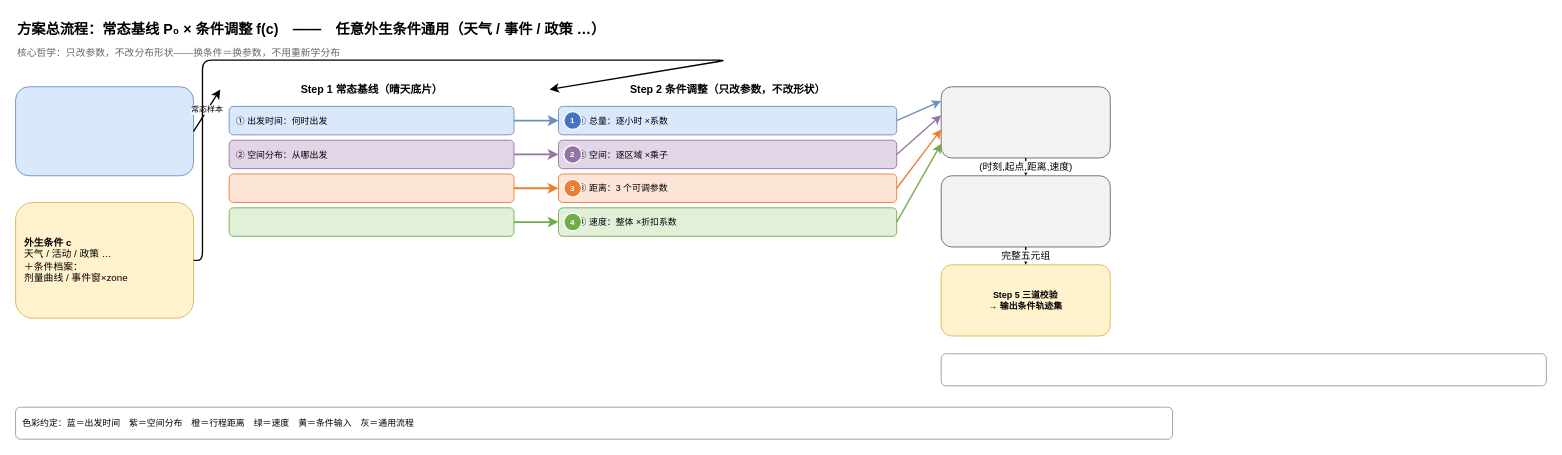
Image size: 1562x455. Some labels were removed from this diagram. The shapes that lost their labels are listed below. From the top down, each one's centre as x and y in pixels, then its label:
At point (104, 131): "常态行程大数据 时刻/起终点/里程/时长 （例：纽约 TLC 2.61 亿行）".
At point (1025, 122): "Step 3 采样 (时刻, 起点, 距离, 速度) 时长 = 距离 ÷ 速度".
At point (371, 187): "③ 行程距离：走多远".
At point (371, 221): "④ 速度：多快".
At point (1025, 211): "Step 4 终点配对 按起点＋距离 在地图上选终点".
At point (1243, 369): "校验不通过 → 回 Step 2 修正；用可观测的真实雨天做盲测，通过才外推到极端".
